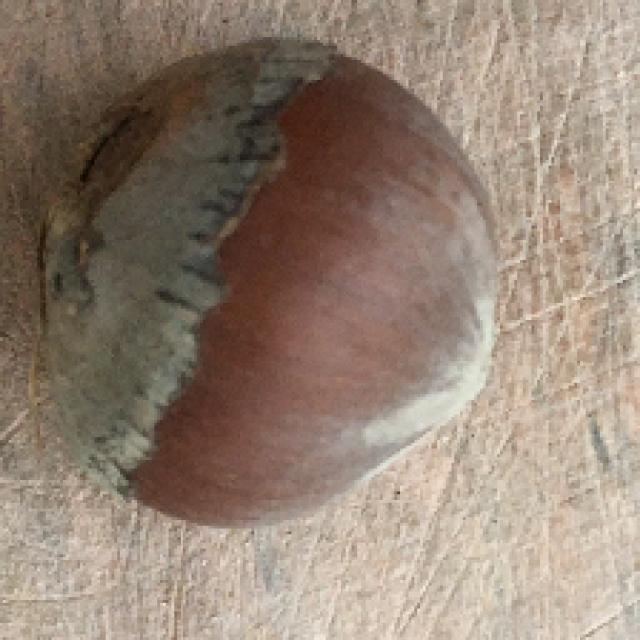damagedHazelnut: (22, 33, 503, 540)
